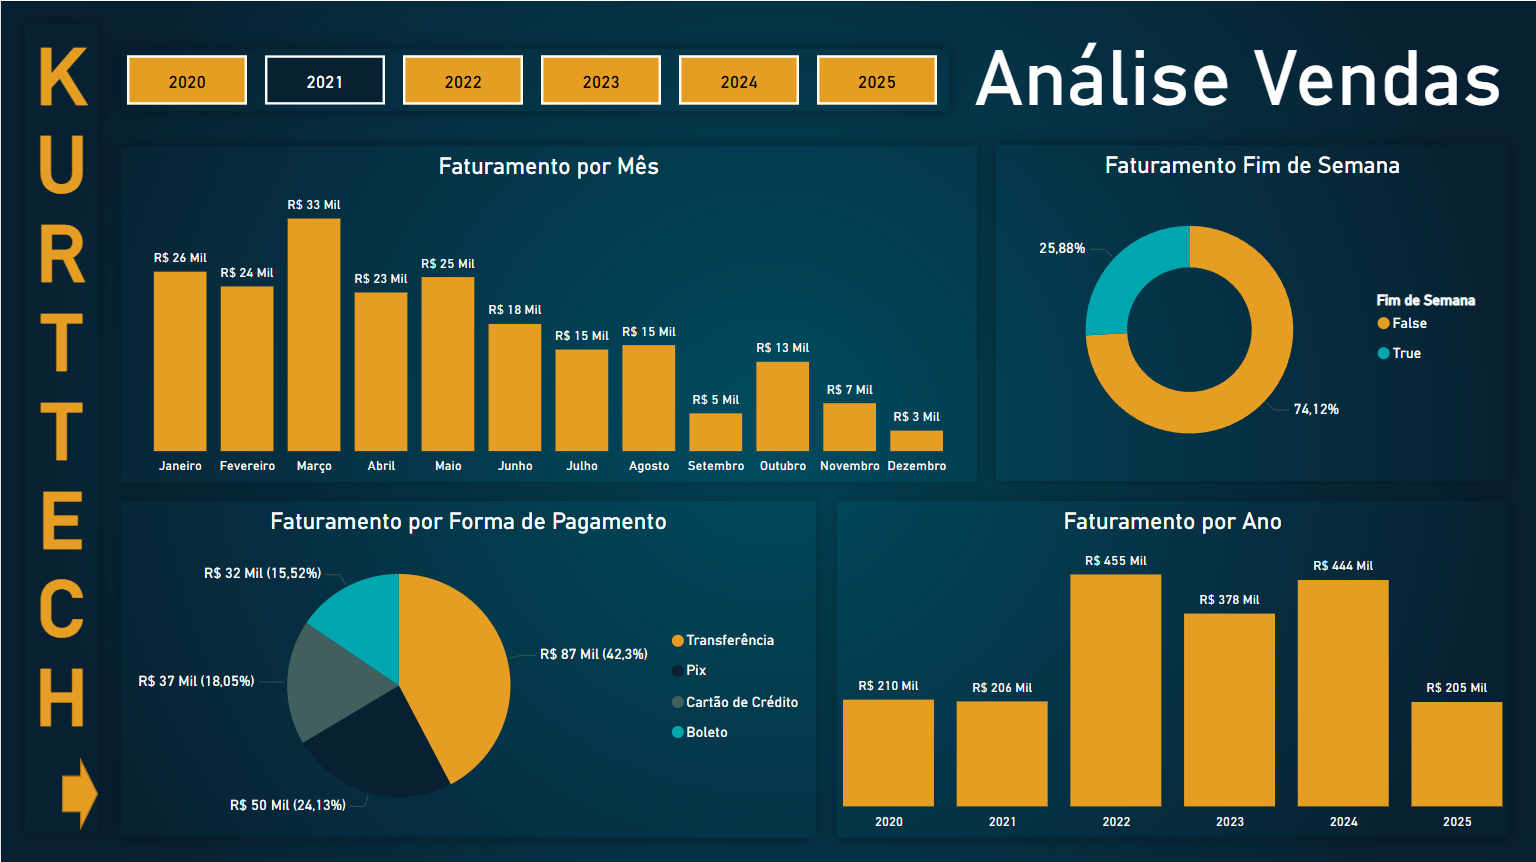

Layout of this report page (visuals, bound fields, positions):
{"tool":"powerbi","page":{"name":"Faturamento","canvas":[1280,720],"ordinal":0},"visuals":[{"type":"columnChart","title":"Faturamento por Mês","fields":{"Y":["FactVendas.Total Faturamento"],"Category":["DimData.Nome_Mes"]},"box":[100.1,122.2,713,280],"z":0},{"type":"columnChart","title":"Faturamento por Ano","fields":{"Category":["DimData.Ano"],"Y":["FactVendas.Total Faturamento"]},"box":[697,418,559.5,280.2],"z":1000},{"type":"textbox","box":[775,21.3,481.5,85.1],"z":2000},{"type":"donutChart","title":"Faturamento Fim de Semana","fields":{"Category":["DimData.eh_Fim_de_Semana"],"Y":["FactVendas.Total Faturamento"]},"box":[828.9,122,427.4,280.2],"z":3000},{"type":"pieChart","title":"Faturamento por Forma de Pagamento","fields":{"Category":["FactVendas.Tipo_Pag"],"Y":["FactVendas.Total Faturamento"]},"box":[100.1,418.2,579,280],"z":4000},{"type":"textbox","box":[20,21,61,672],"z":5000},{"type":"shape","box":[51,632,30,61],"z":6000},{"type":"actionButton","box":[50,632,31,61],"z":7000},{"type":"advancedSlicerVisual","fields":{"Values":["DimData.Ano"]},"box":[100,42,690,51],"z":8000}]}

Visuals, with their boxes in screenshot pixels (x1, y1, x2, y2), scaled from the page's 1280x720 canvas onto the 1536x862 screenshot:
"Faturamento por Mês" columnChart: (left=120, top=146, right=976, bottom=482)
"Faturamento por Ano" columnChart: (left=836, top=500, right=1508, bottom=836)
textbox: (left=930, top=26, right=1508, bottom=127)
"Faturamento Fim de Semana" donutChart: (left=995, top=146, right=1508, bottom=482)
"Faturamento por Forma de Pagamento" pieChart: (left=120, top=501, right=815, bottom=836)
textbox: (left=24, top=25, right=97, bottom=830)
shape: (left=61, top=757, right=97, bottom=830)
actionButton: (left=60, top=757, right=97, bottom=830)
advancedSlicerVisual - DimData.Ano: (left=120, top=50, right=948, bottom=111)
